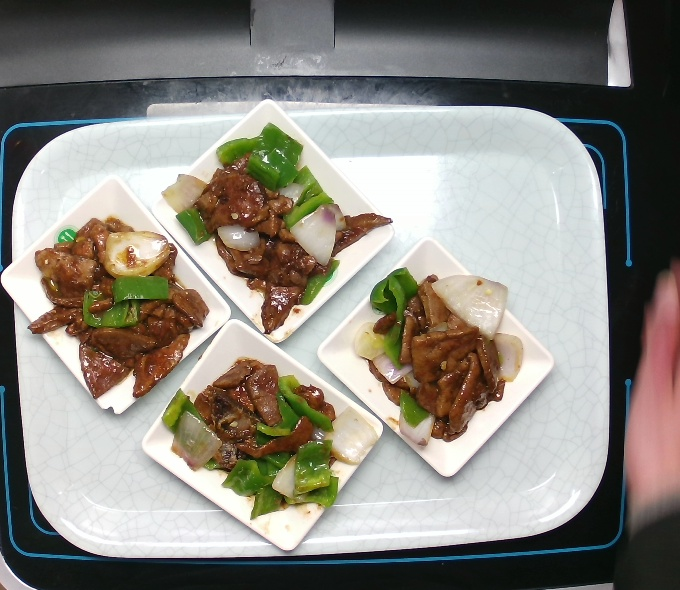wcq-ZhuGan: (161, 118, 389, 334), (160, 344, 376, 520), (25, 212, 208, 408), (355, 262, 532, 448)
